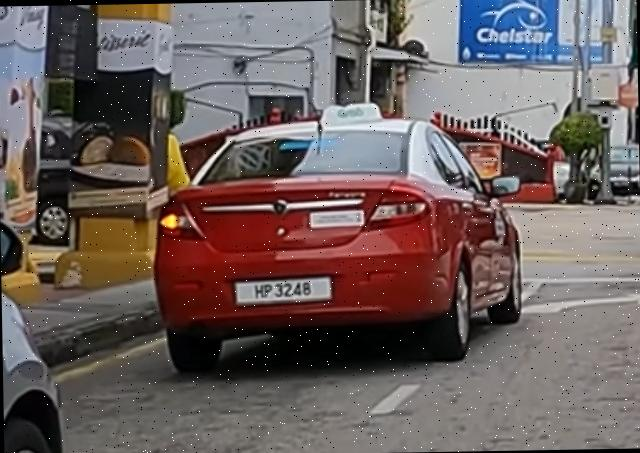License_Plate: (233, 275, 334, 307)
car: (150, 100, 526, 372)
